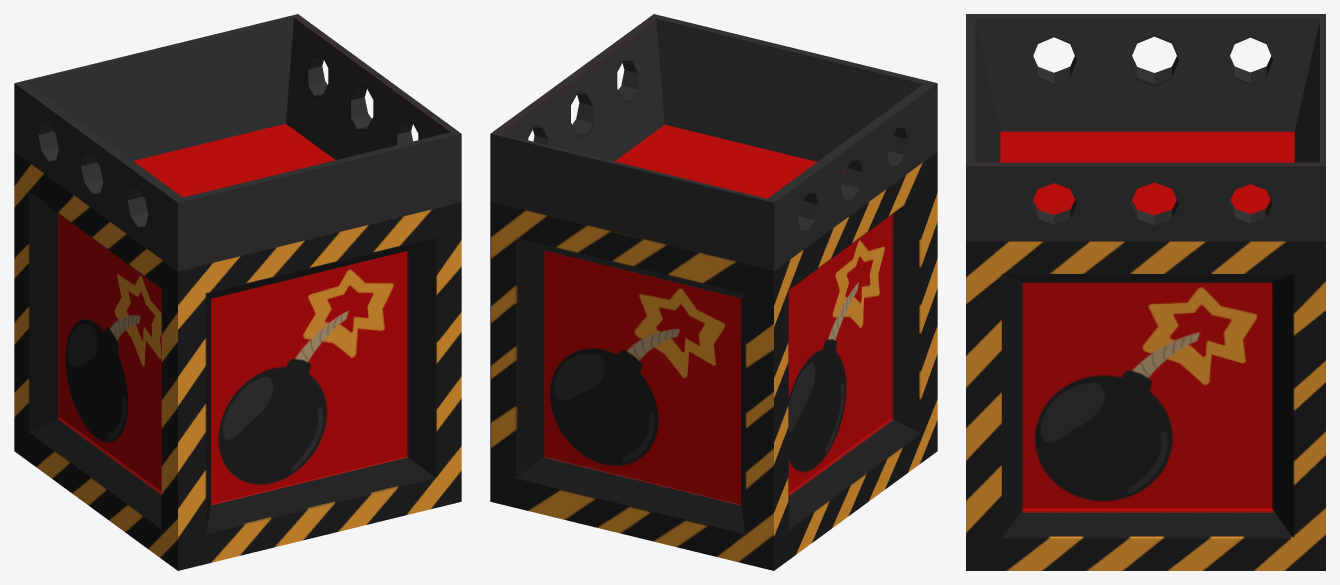
The model's file is Bomb Box.fbx.
The picture shows the model from 3 angles, left to right: view 1: azimuth 30°, elevation 25°; view 2: azimuth 150°, elevation 25°; view 3: azimuth 270°, elevation 25°; orthographic projection. The views are drawn at different scales.
Parts seen in each view (by area): view 1: Bomb_Box_; view 2: Bomb_Box_; view 3: Bomb_Box_.
Part boxes in pixels (bbox=[...]): Bomb_Box_: bbox=[14, 14, 461, 570]; Bomb_Box_: bbox=[490, 14, 937, 570]; Bomb_Box_: bbox=[966, 14, 1325, 570].
Bounding box in the file's own units: 0.5861 × 0.7268 × 0.5855.
Materials: 1 (1 with a texture image).
